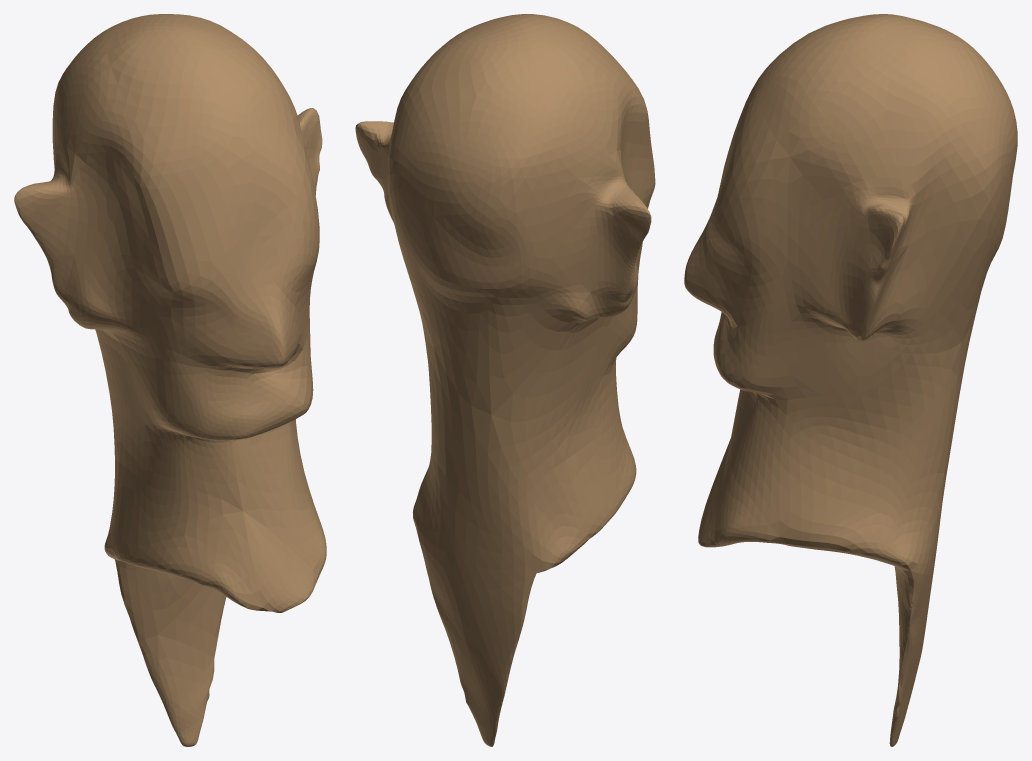
The model's file is mask-grand.glb.
The picture shows the model from 3 angles, left to right: view 1: azimuth 30°, elevation 25°; view 2: azimuth 150°, elevation 25°; view 3: azimuth 270°, elevation 25°; orthographic projection. The views are drawn at different scales.
Visible parts, largest first — view 1: z03.stl; view 2: z03.stl; view 3: z03.stl.
Boxes of the visible parts, left/top/right/bottom form: z03.stl: left=14, top=14, right=326, bottom=746; z03.stl: left=355, top=14, right=655, bottom=746; z03.stl: left=684, top=14, right=1017, bottom=746.
Bounding box in the file's own units: 6491 × 15015 × 6374.
